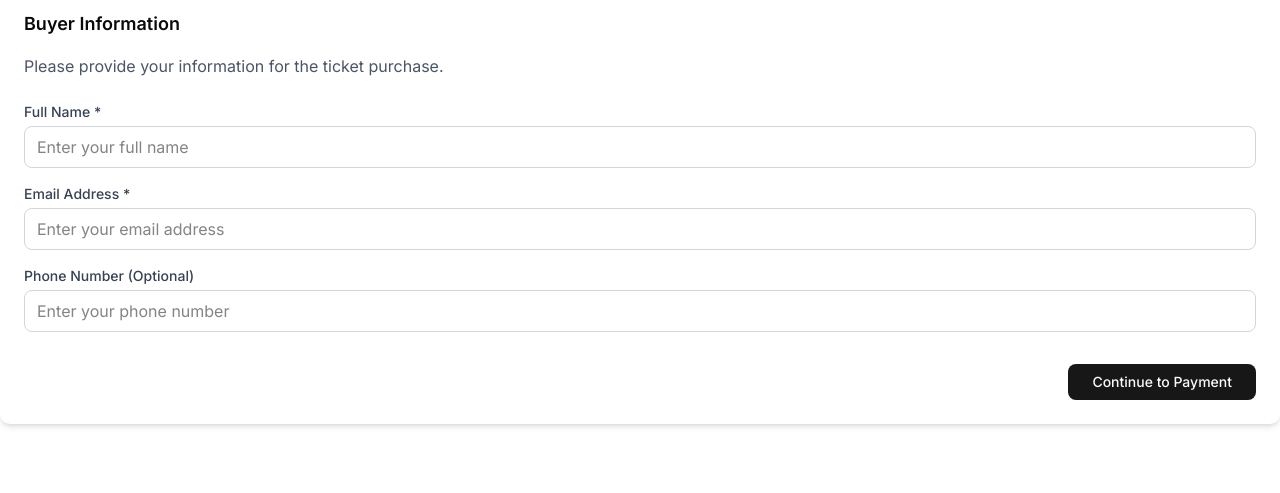
BuyerInfoForm component › validates required fields
# Try to submit without filling required fields
Click the button "Continue to Payment" at (1162, 382), box 1068,364 -> 1256,400
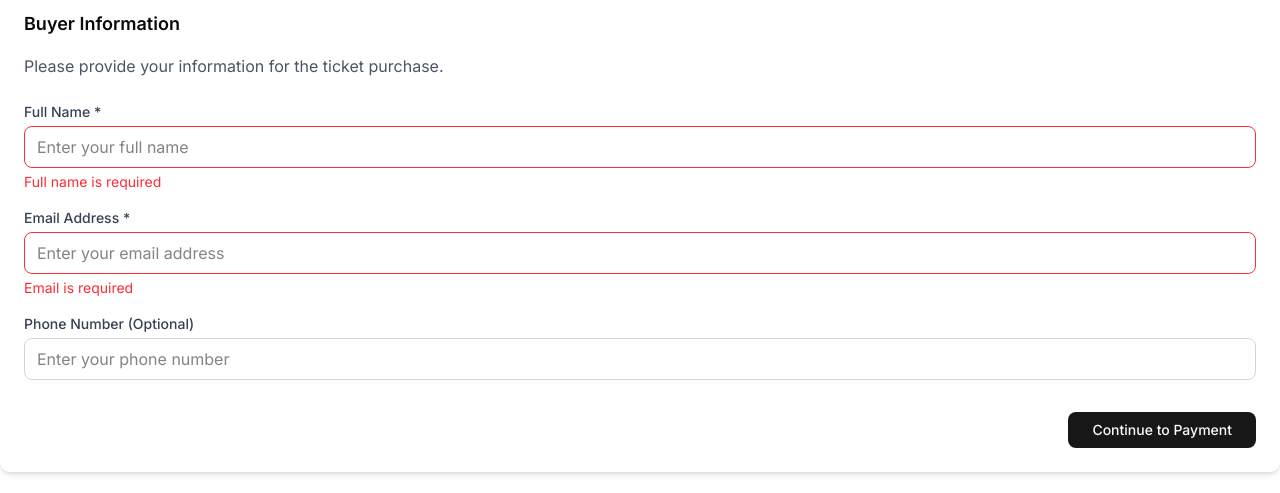
Check: the text "Full name is required" is shown, box 24,173 -> 161,190
Check: the text "Email is required" is shown, box 24,279 -> 133,296
